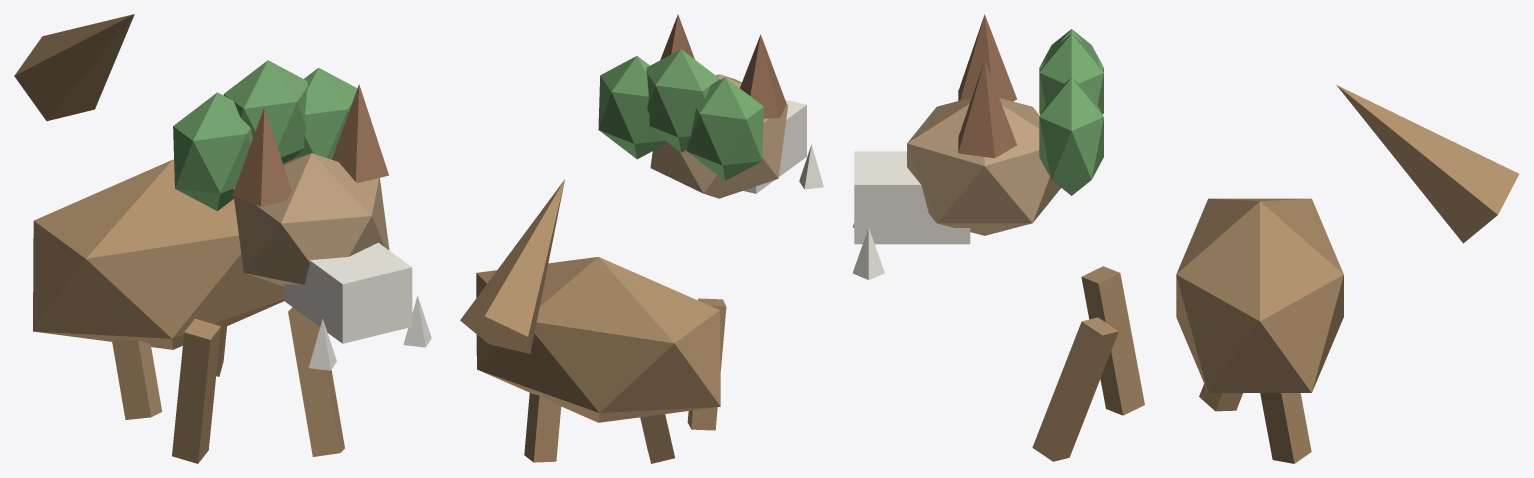
File: npcpose_wolf_walk_05.glb
The picture shows the model from 3 angles, left to right: view 1: azimuth 30°, elevation 25°; view 2: azimuth 150°, elevation 25°; view 3: azimuth 270°, elevation 25°; orthographic projection. The views are drawn at different scales.
Visible parts, largest first — view 1: npcpose; view 2: npcpose; view 3: npcpose.
Part boxes in pixels (<box>): npcpose: <box>14,14,431,463</box>; npcpose: <box>460,14,823,463</box>; npcpose: <box>852,14,1519,463</box>.
Bounding box in the file's own units: 0.8873 × 1.22 × 1.84.
